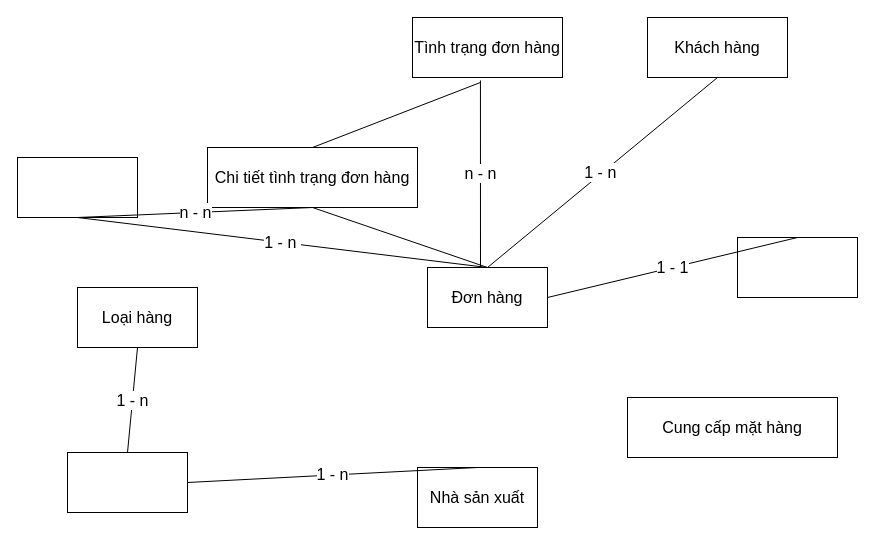
Some shapes in this 875 by 545 pixel diagram are drawn without their labels. Each missing label, with the centre of its shape:
Hoá đơn: the point at 797,267
Mặt hàng: the point at 127,482
Nhân viên: the point at 77,187
